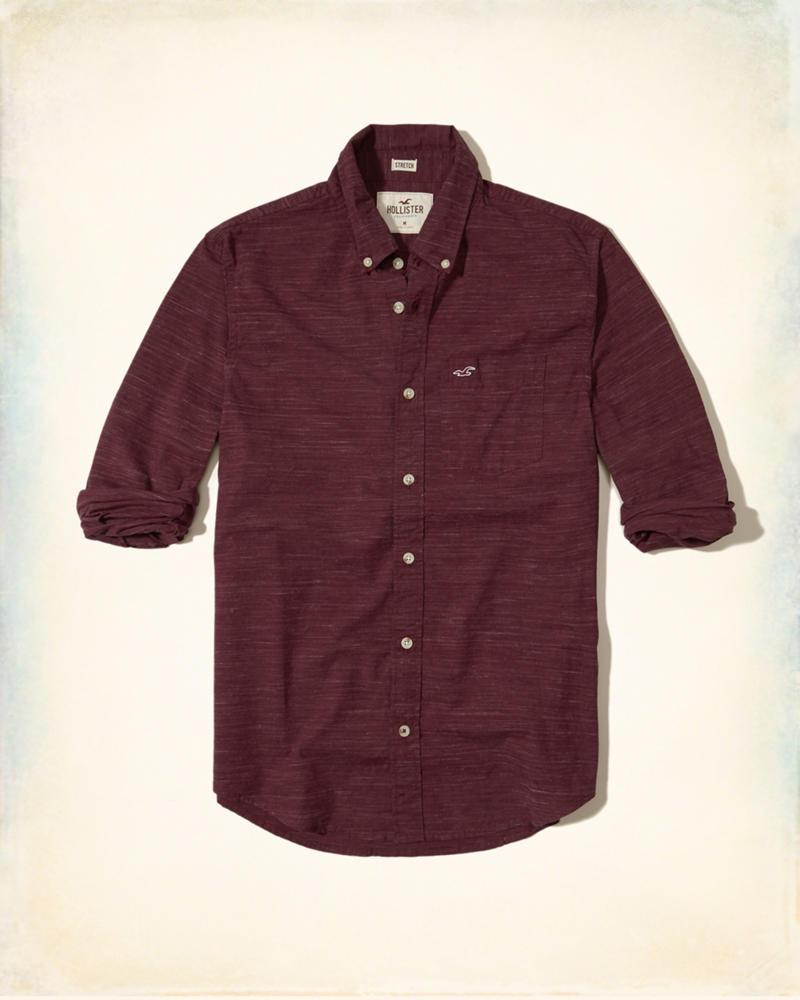teeshirt: (74, 112, 726, 877)
